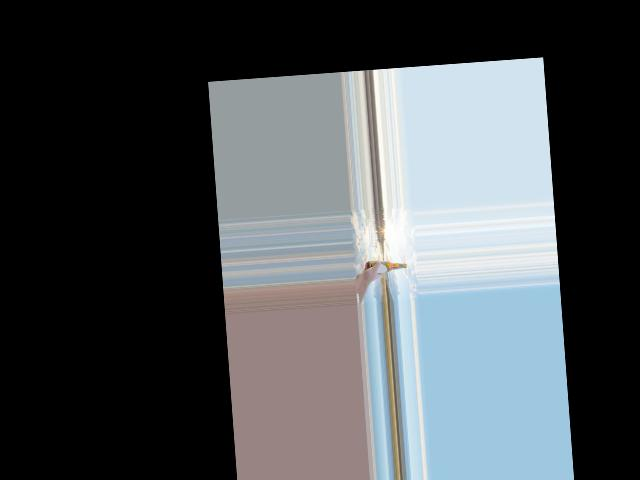beer: (367, 257, 407, 273)
